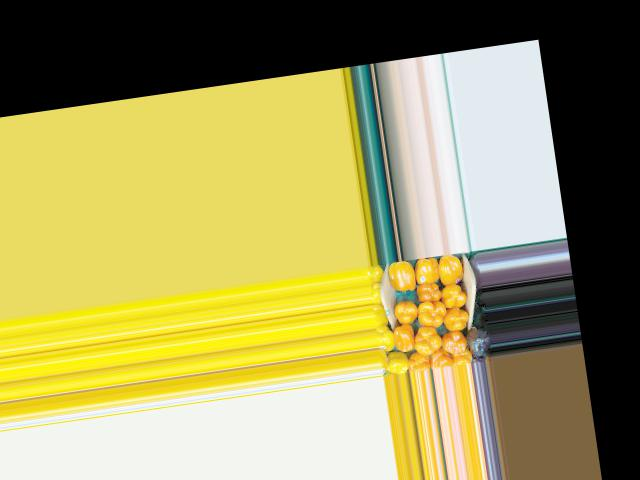bell_pepper: (377, 320, 395, 353)
